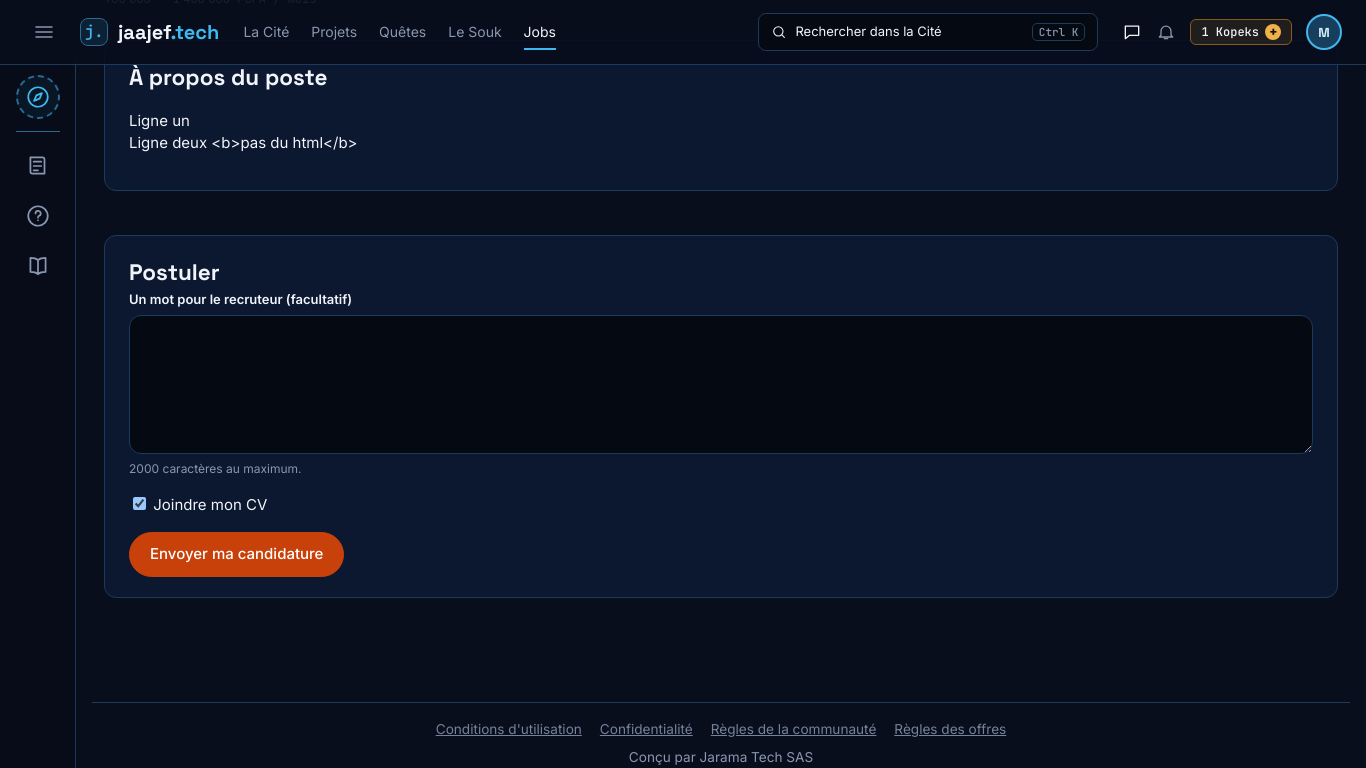
Test: Job detail › sends the message and the CV choice, then confirms
The image size is (1366, 768).
(page scrolled)
Type "  Bonjour  " into the text box labelled "Un mot pour le recruteur (facultatif)" at point(721, 384), box x1=129 y1=315 x2=1313 y2=454
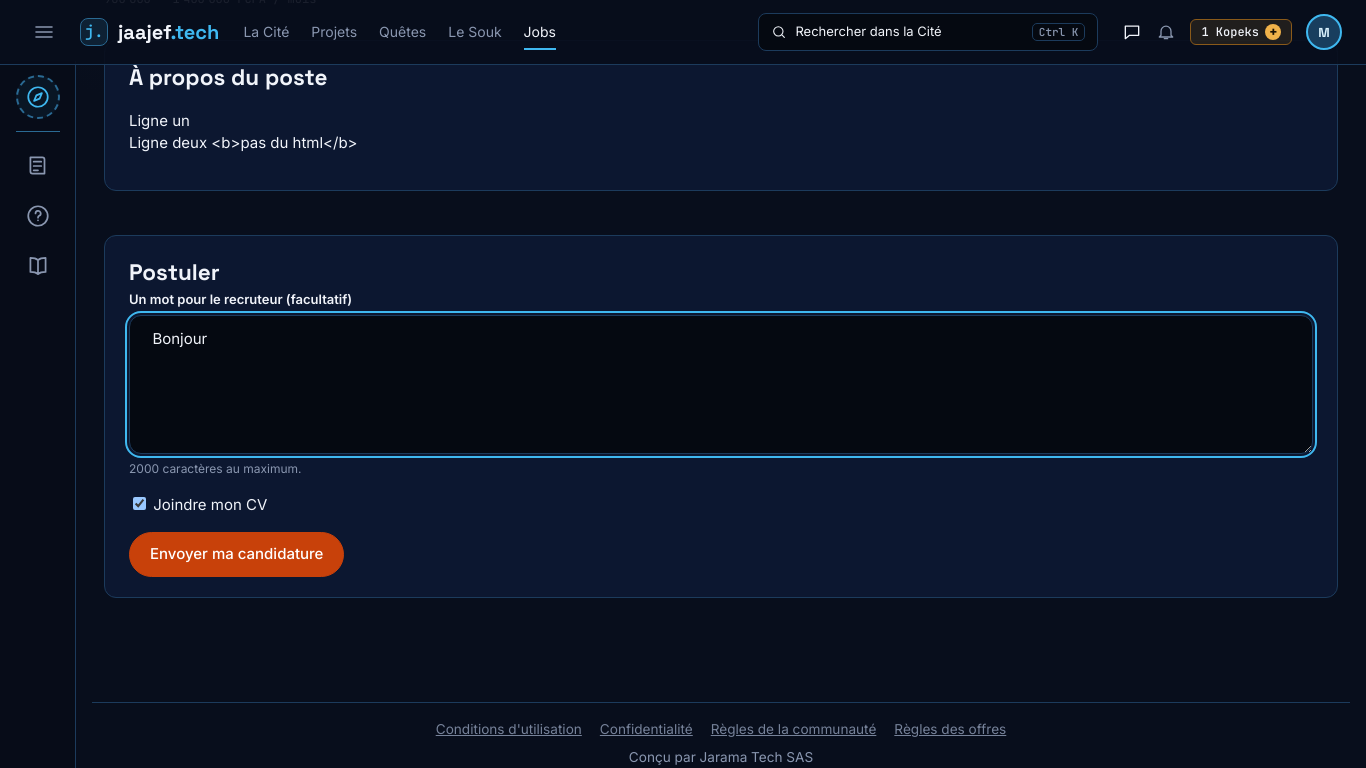
Click the checkbox labelled "Joindre mon CV" at point(140, 503), box x1=133 y1=496 x2=146 y2=510
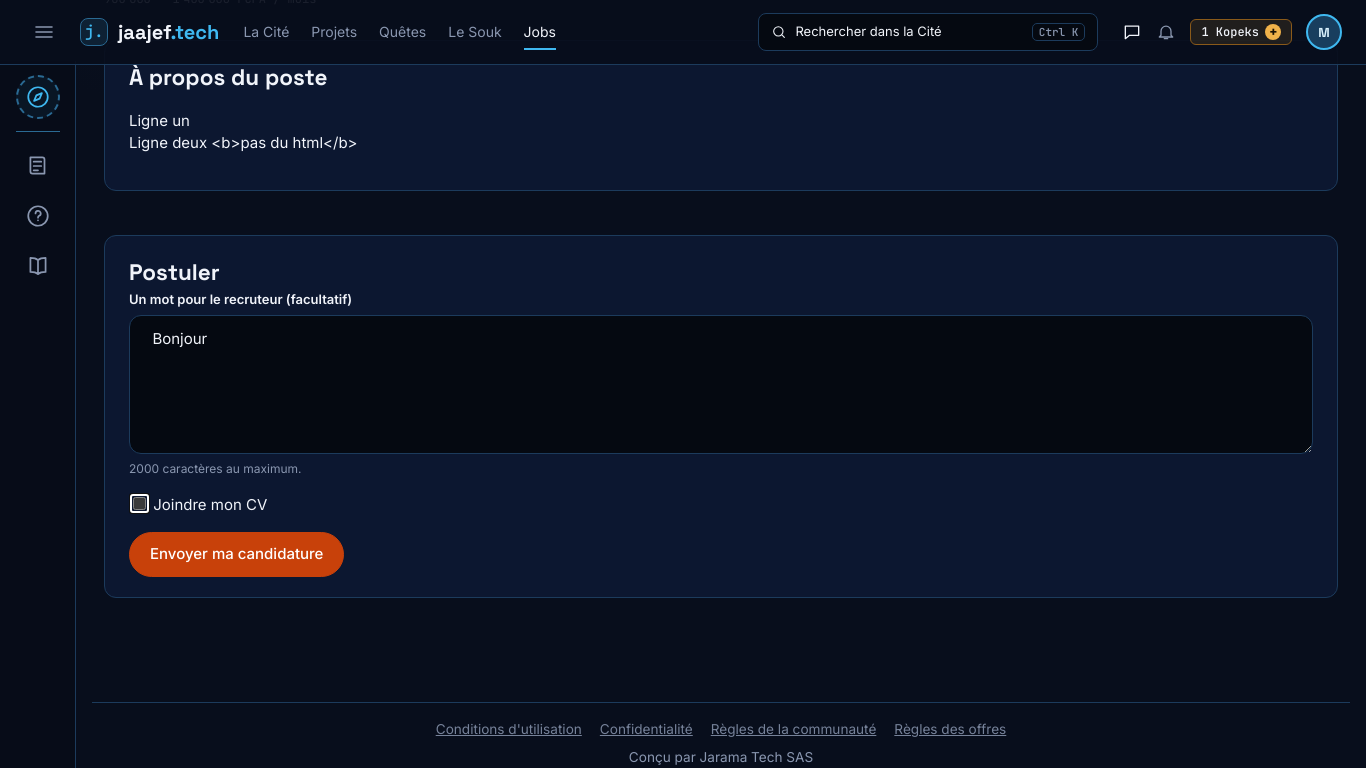
Click the button "Envoyer ma candidature" at point(237, 554), box x1=129 y1=532 x2=344 y2=576
(page scrolled)
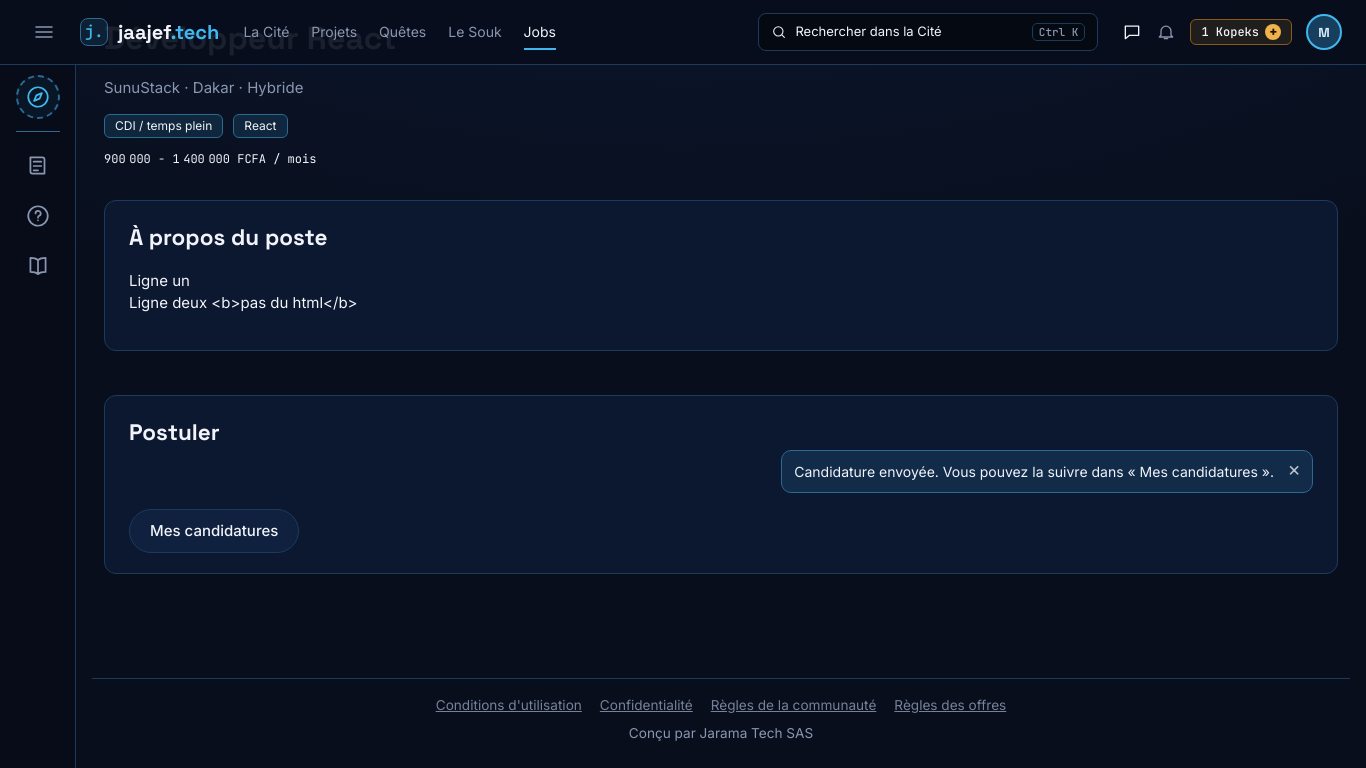
Now the message shows "Candidature envoyée", box x1=794 y1=462 x2=1274 y2=480
Now the button "Envoyer ma candidature" is gone
